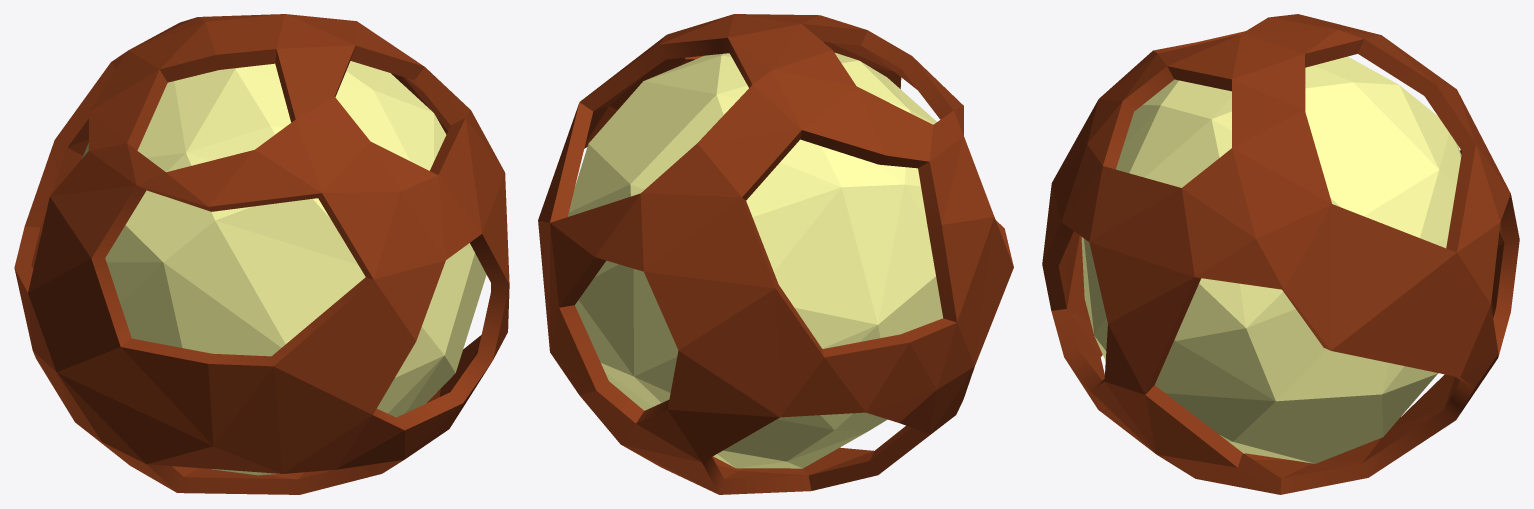
File: Planet_05_a.fbx
The picture shows the model from 3 angles, left to right: view 1: azimuth 30°, elevation 25°; view 2: azimuth 150°, elevation 25°; view 3: azimuth 270°, elevation 25°; orthographic projection. The views are drawn at different scales.
Visible parts, largest first — view 1: Planet_06; view 2: Planet_06; view 3: Planet_06.
Boxes of the visible parts, box(x1,y1,x2,y2) form: Planet_06: box(14, 14, 509, 494); Planet_06: box(538, 14, 1013, 494); Planet_06: box(1042, 14, 1519, 494).
Bounding box in the file's own units: 68.9 × 69.29 × 69.71.
